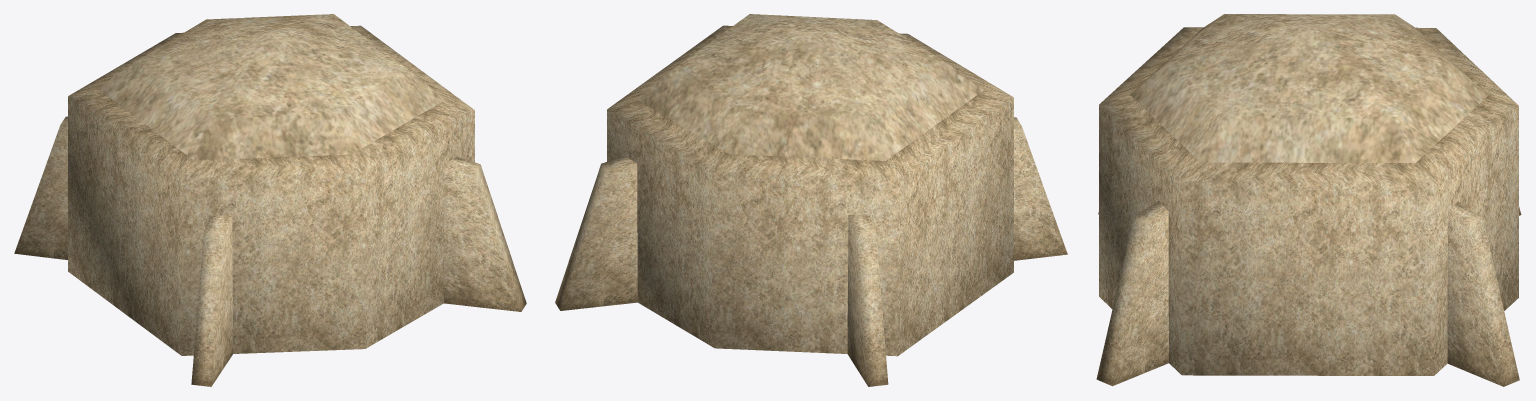
The model's file is thm_tato_jnkshp_bldg_l3.fbx.
3 renders of one model, left to right at view 1: azimuth 30°, elevation 25°; view 2: azimuth 150°, elevation 25°; view 3: azimuth 270°, elevation 25°, orthographic. The views are drawn at different scales.
Parts seen in each view (by area): view 1: mesh_node; view 2: mesh_node; view 3: mesh_node.
Part boxes in pixels (x1,y1,x2,y2): mesh_node: (14,14,526,386); mesh_node: (555,14,1067,386); mesh_node: (1096,14,1521,386).
Bounding box in the file's own units: 8.09 × 5.61 × 8.09.
Materials: 1 (1 with a texture image).
